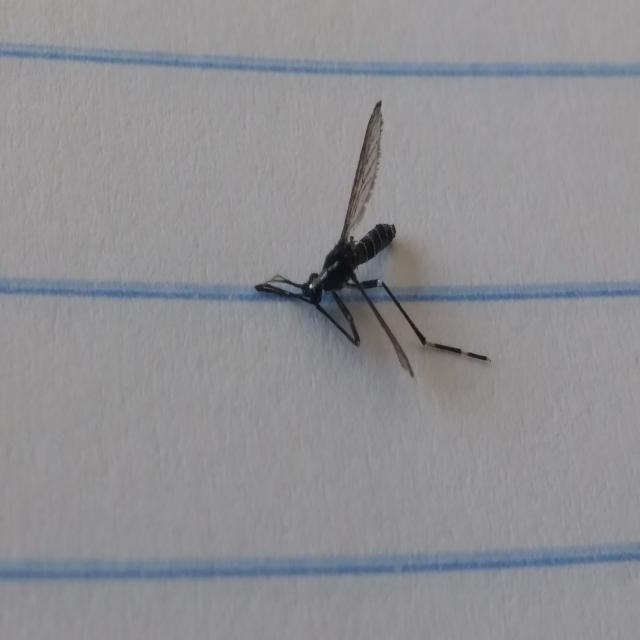albopictus: (239, 89, 488, 395)
